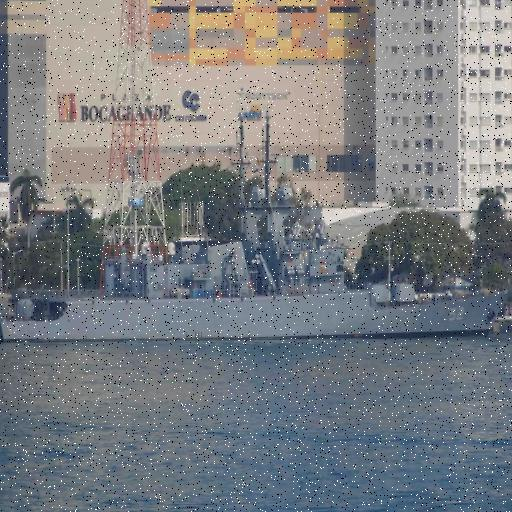Fragata: (1, 98, 512, 347)
